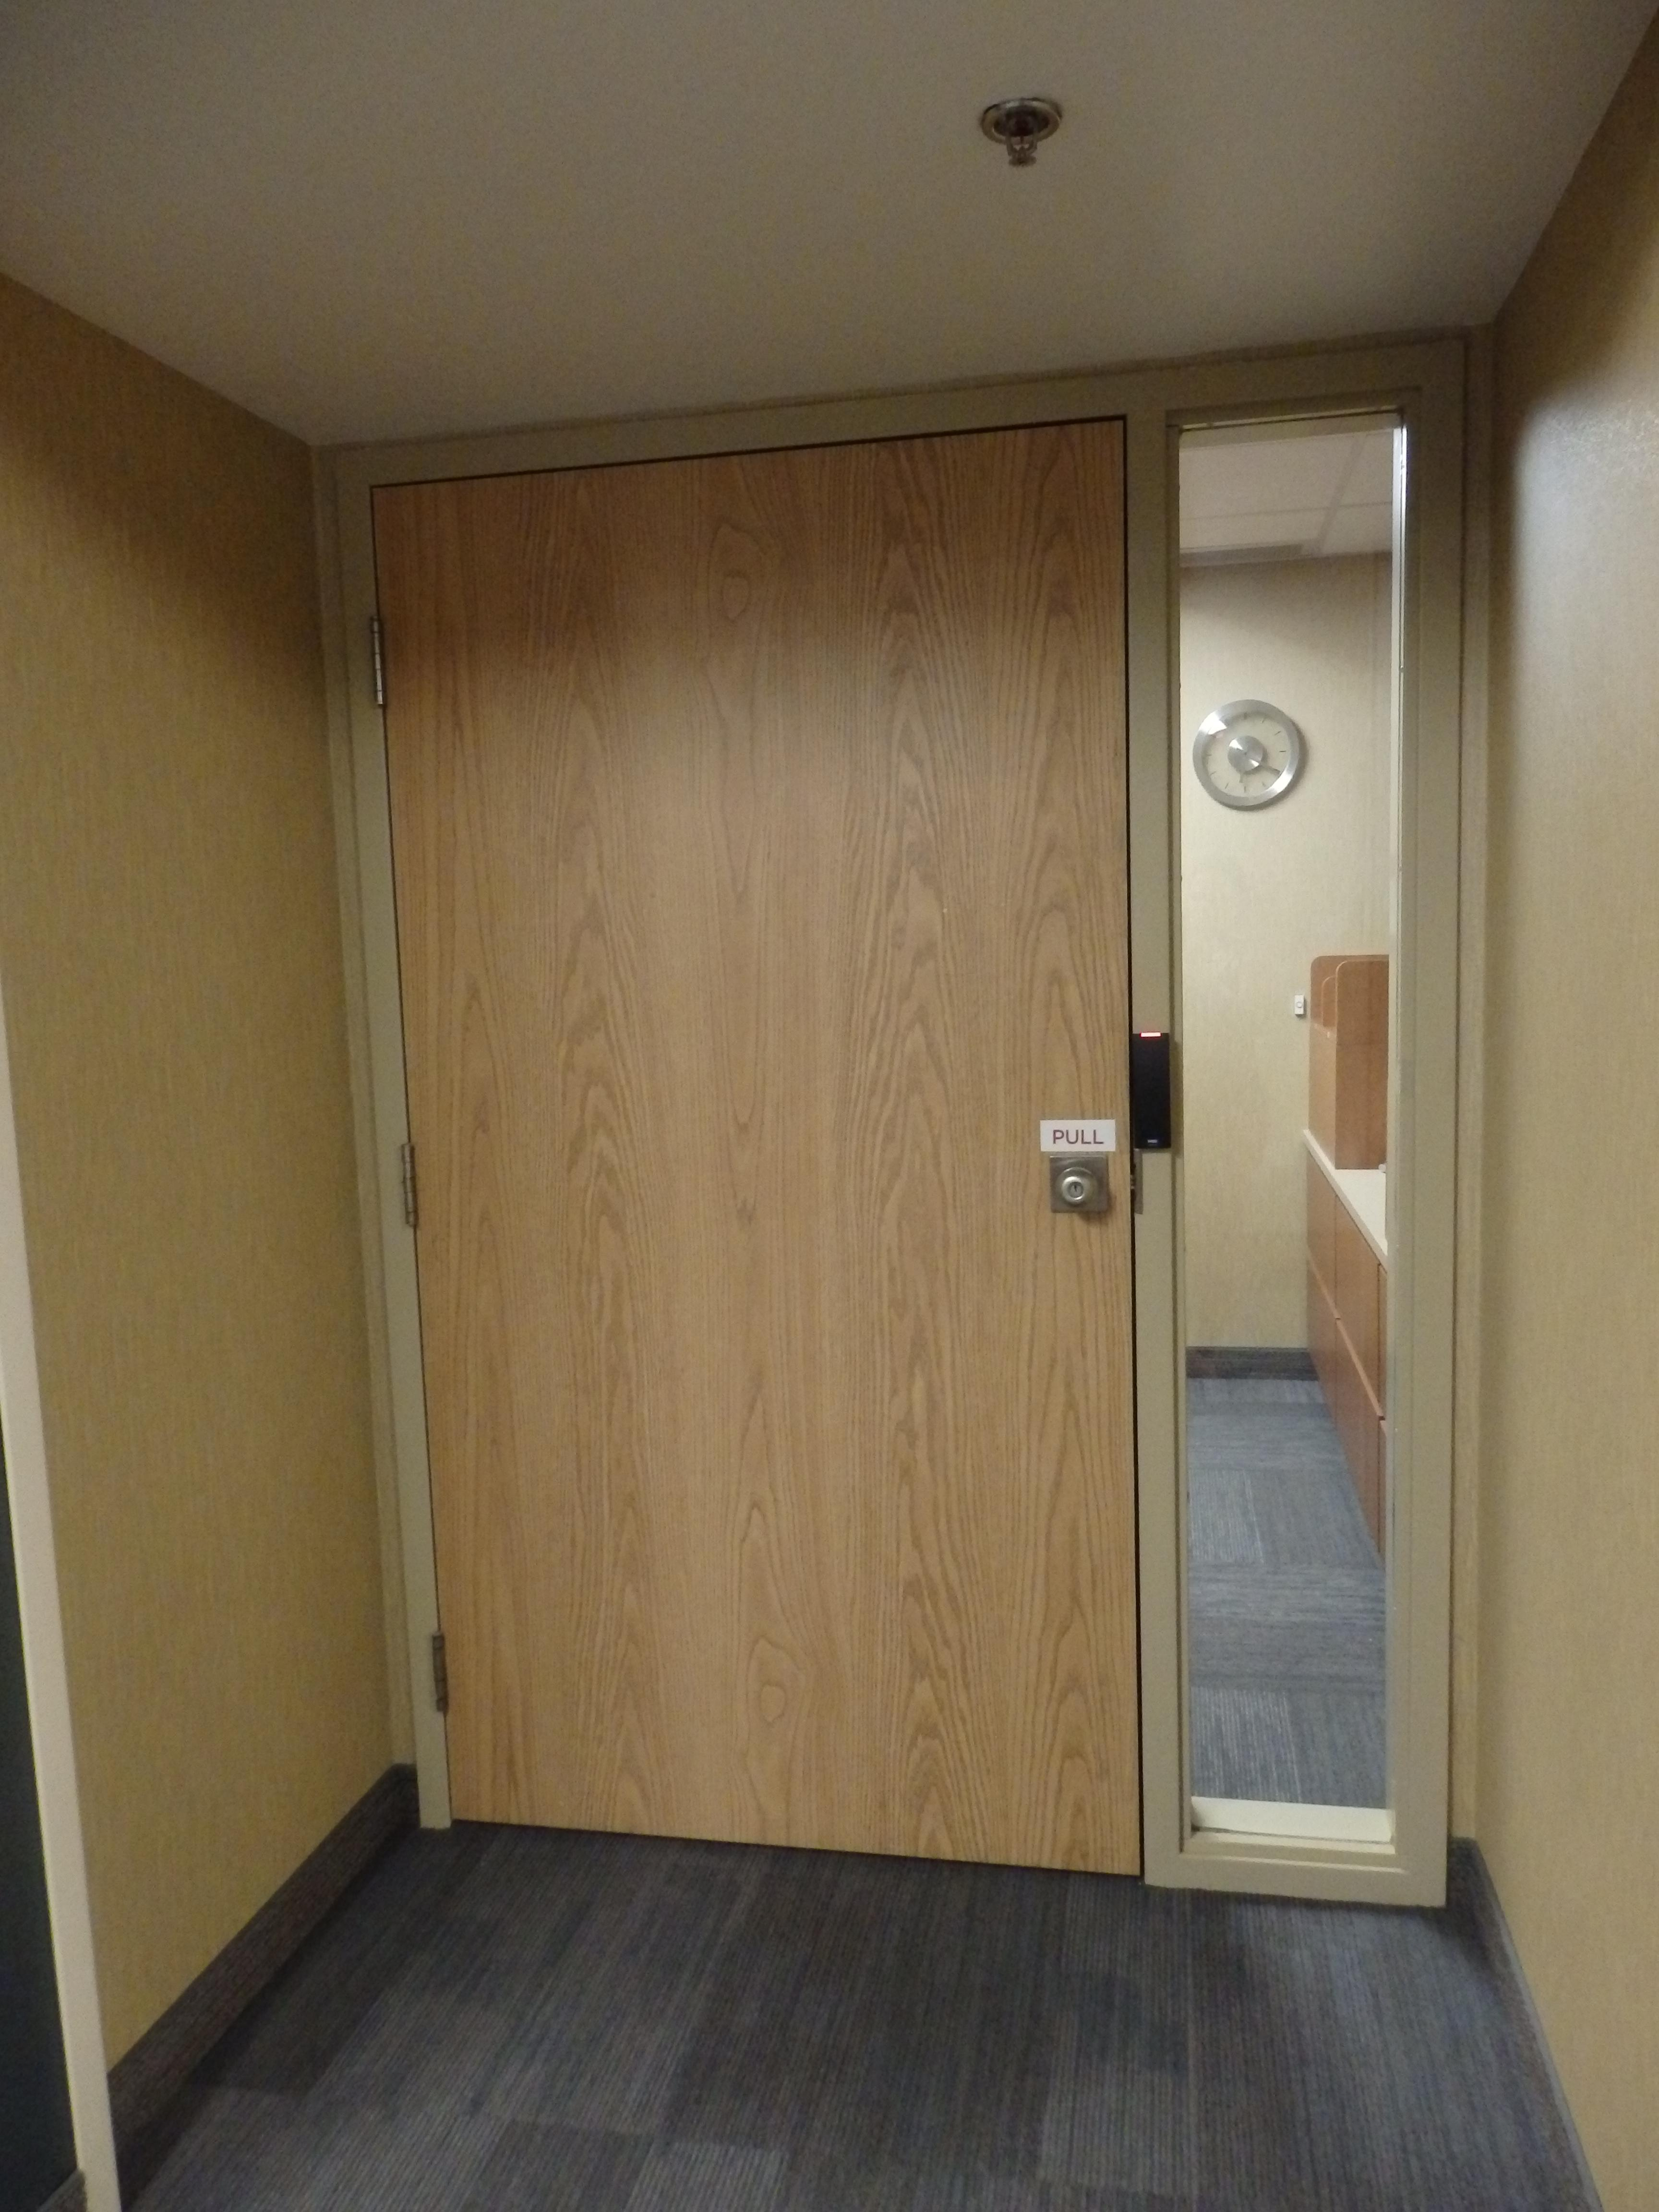door: (338, 369, 1187, 1888)
